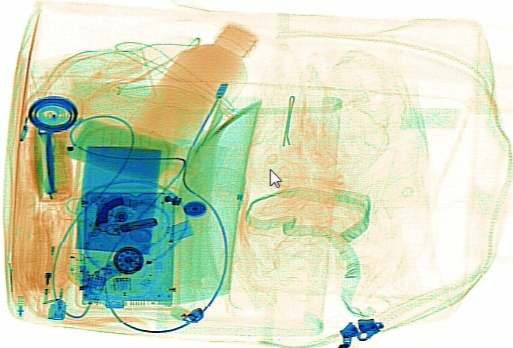lighter: (37, 224, 70, 321)
